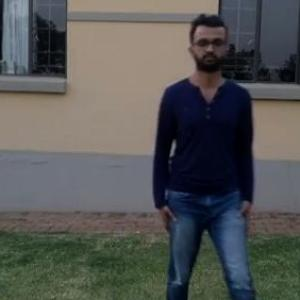follow: (157, 15, 260, 299)
